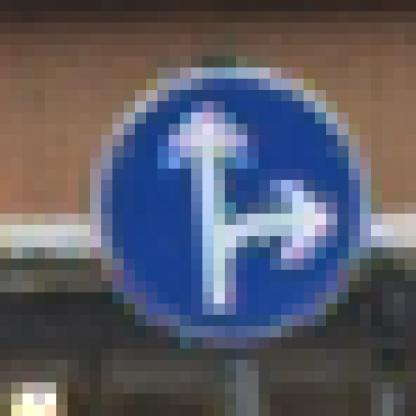Straight or Right: (68, 57, 361, 350)
